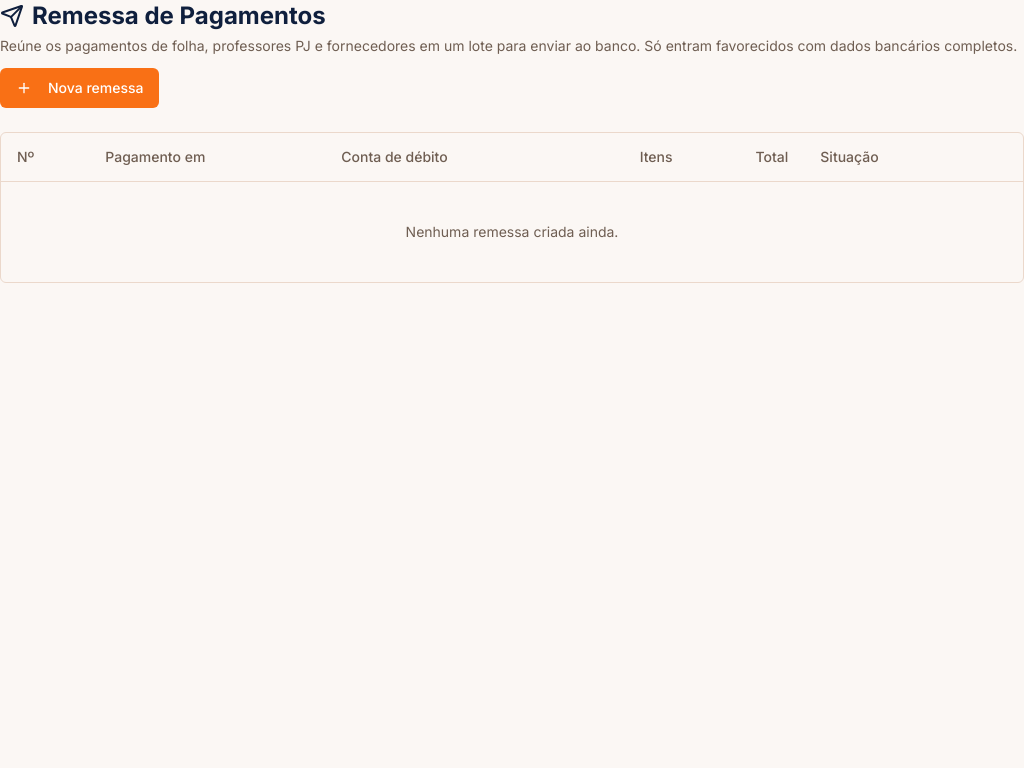
Test: Remessa de pagamentos › mostra a lista vazia e abre a nova remessa
Expected: the text "Nenhuma remessa criada ainda." is shown, [1,181,1023,282]
Click the button "Nova remessa": (80, 88) [0,68,160,108]
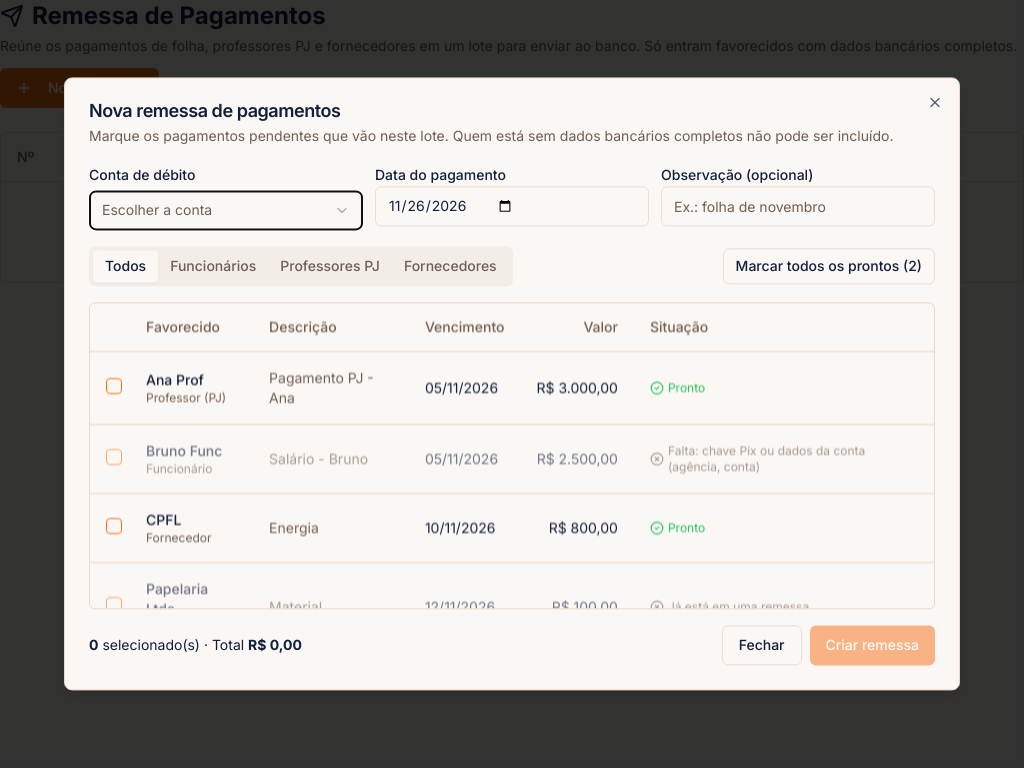
Expected: the heading "Nova remessa de pagamentos" is shown, [89,100,340,121]
